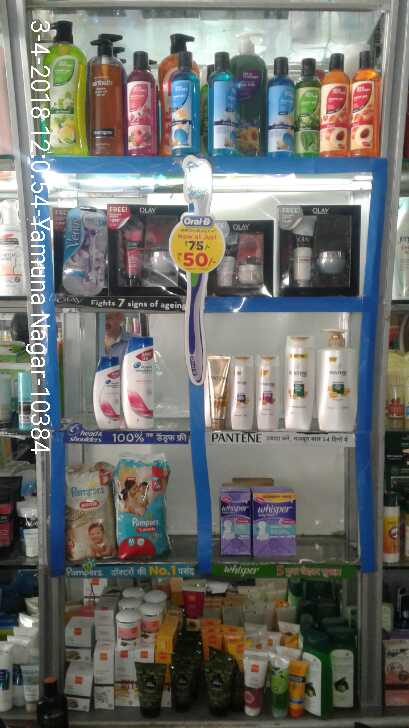venus: (63, 206, 111, 296)
